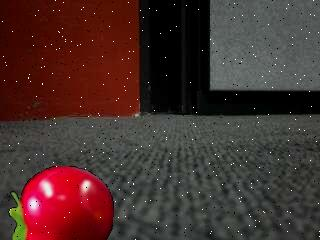Tomato: (7, 163, 116, 240)
